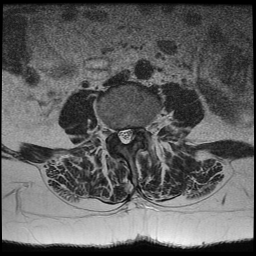CCS_stenosis: (122, 119, 129, 151)
LFS_severe_stenosis: (136, 116, 144, 140)
LLS_stenosis: (129, 119, 136, 146)
RFS_stenosis: (110, 119, 116, 143)
RLS_stenosis: (116, 121, 122, 146)
